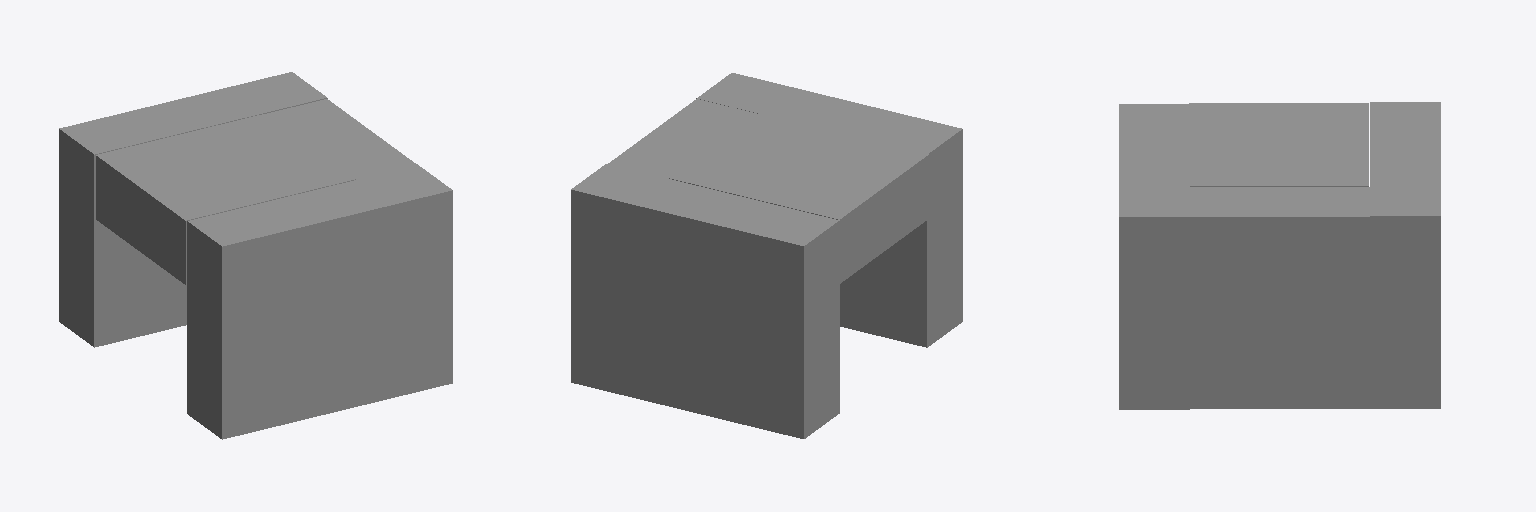
File: actualhouse.obj
3 views of the same model, side by side, from view 1: azimuth 30°, elevation 25°; view 2: azimuth 150°, elevation 25°; view 3: azimuth 270°, elevation 25° (orthographic).
Parts seen in each view (by area): view 1: Cube; view 2: Cube; view 3: Cube.
Boxes of the visible parts, box(x1,y1,x2,y2) form: Cube: box(59, 72, 452, 439); Cube: box(571, 73, 962, 438); Cube: box(1119, 102, 1440, 409).
Size of the model in its own units: 7.58 by 6.02 by 9.06.